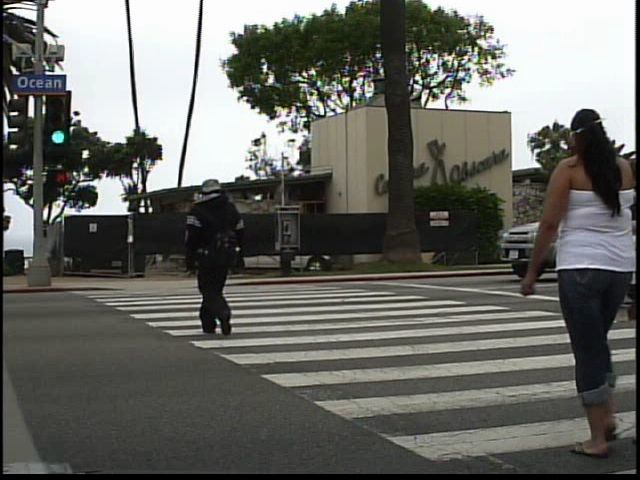person: (521, 104, 626, 470), (174, 167, 264, 348)
